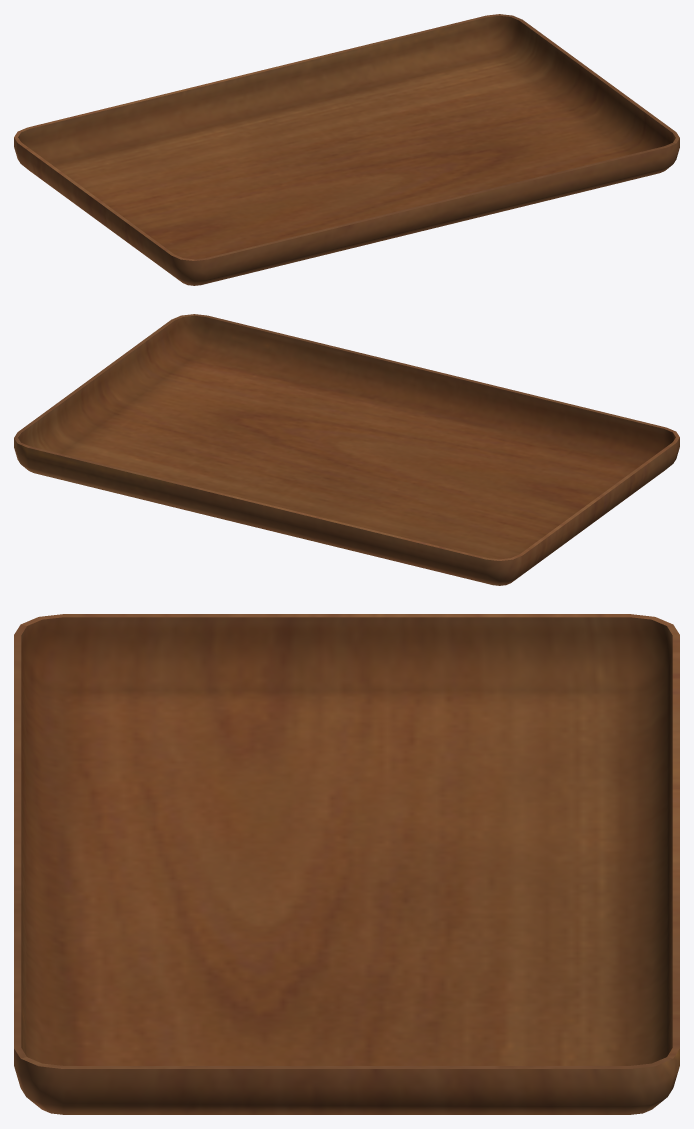
Rendered from GardenTableWear01_9.FBX.
The picture shows the model from 3 angles, top to bottom: view 1: azimuth 30°, elevation 25°; view 2: azimuth 150°, elevation 25°; view 3: azimuth 270°, elevation 25°; orthographic projection. The views are drawn at different scales.
Parts seen in each view (by area): view 1: GardenTableWear01_9; view 2: GardenTableWear01_9; view 3: GardenTableWear01_9.
Part boxes in pixels (left/top/right/bottom): GardenTableWear01_9: left=14, top=14, right=679, bottom=285; GardenTableWear01_9: left=14, top=314, right=679, bottom=585; GardenTableWear01_9: left=14, top=614, right=679, bottom=1114.
Size of what is drawn, in the model's own units: 0.3911 by 0.0249 by 0.242.
